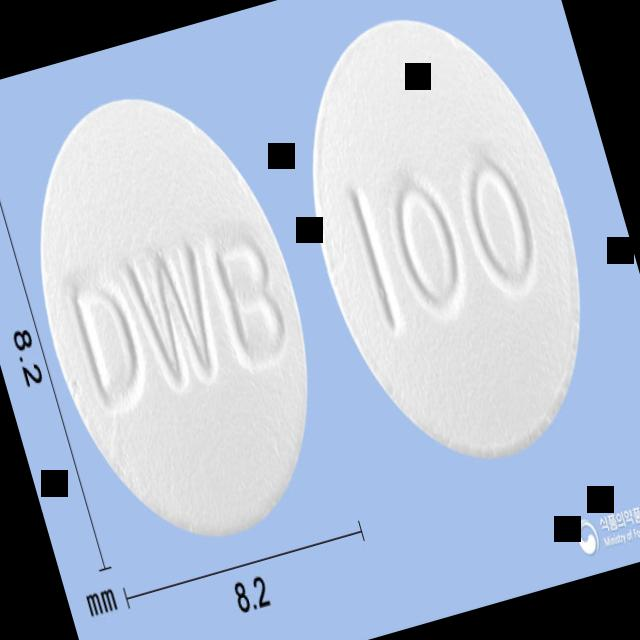Ciracle: (0, 66, 353, 568), (265, 0, 628, 488)
